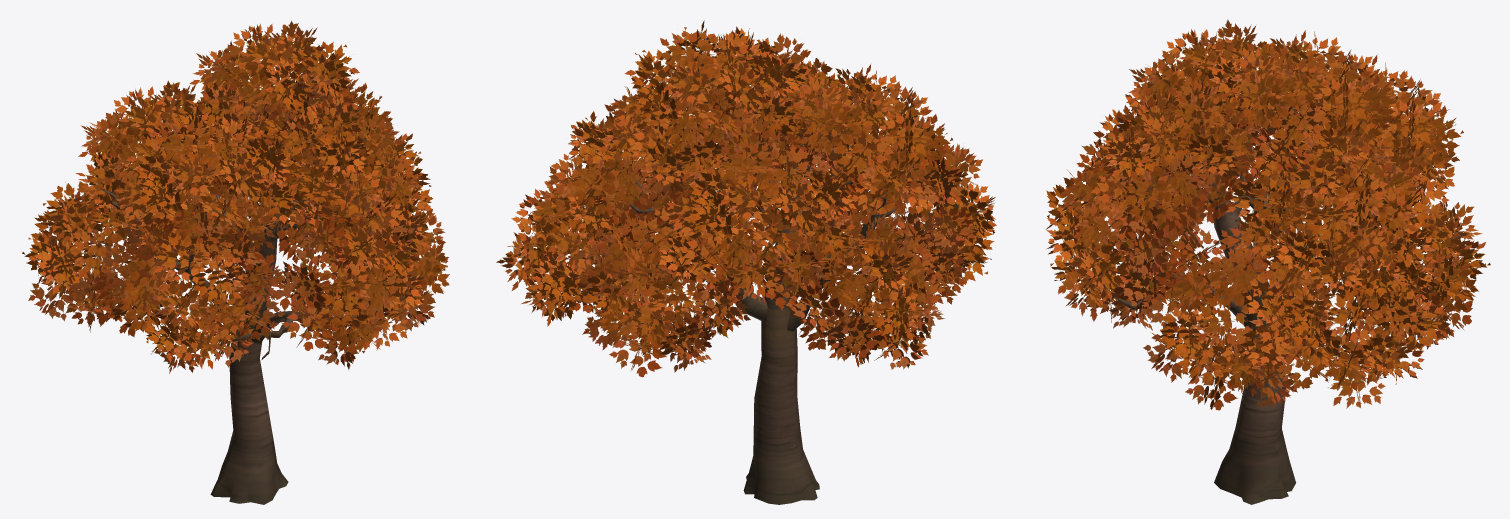
The model's file is FSF_Tree_004.FBX.
3 renders of one model, left to right at view 1: azimuth 30°, elevation 25°; view 2: azimuth 150°, elevation 25°; view 3: azimuth 270°, elevation 25°, orthographic. The views are drawn at different scales.
Visible parts, largest first — view 1: FSF_leaves_004, FSF_trunk_004; view 2: FSF_leaves_004, FSF_trunk_004; view 3: FSF_leaves_004, FSF_trunk_004.
Part boxes in pixels (x1,y1,x2,y2): FSF_leaves_004: (22, 20, 449, 373); FSF_trunk_004: (100, 128, 404, 504); FSF_leaves_004: (496, 20, 996, 377); FSF_trunk_004: (629, 129, 903, 504); FSF_leaves_004: (1045, 19, 1490, 410); FSF_trunk_004: (1106, 108, 1400, 504).
Bounding box in the file's own units: 342 × 361 × 316.
